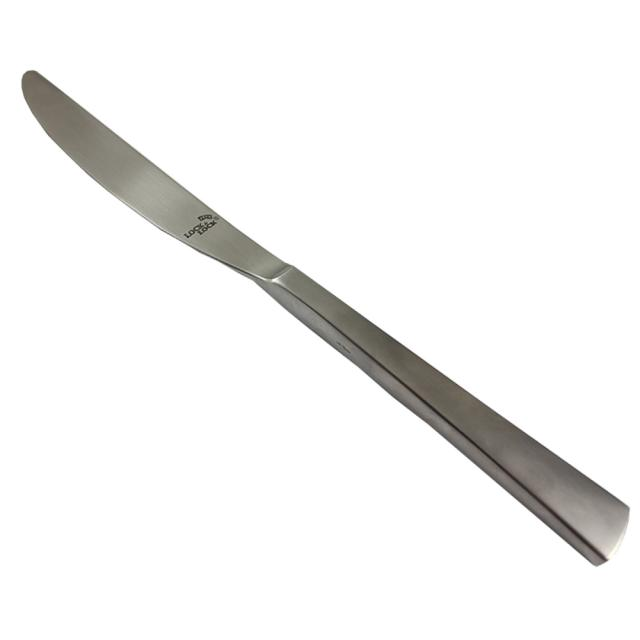Knife: (22, 71, 629, 565)
